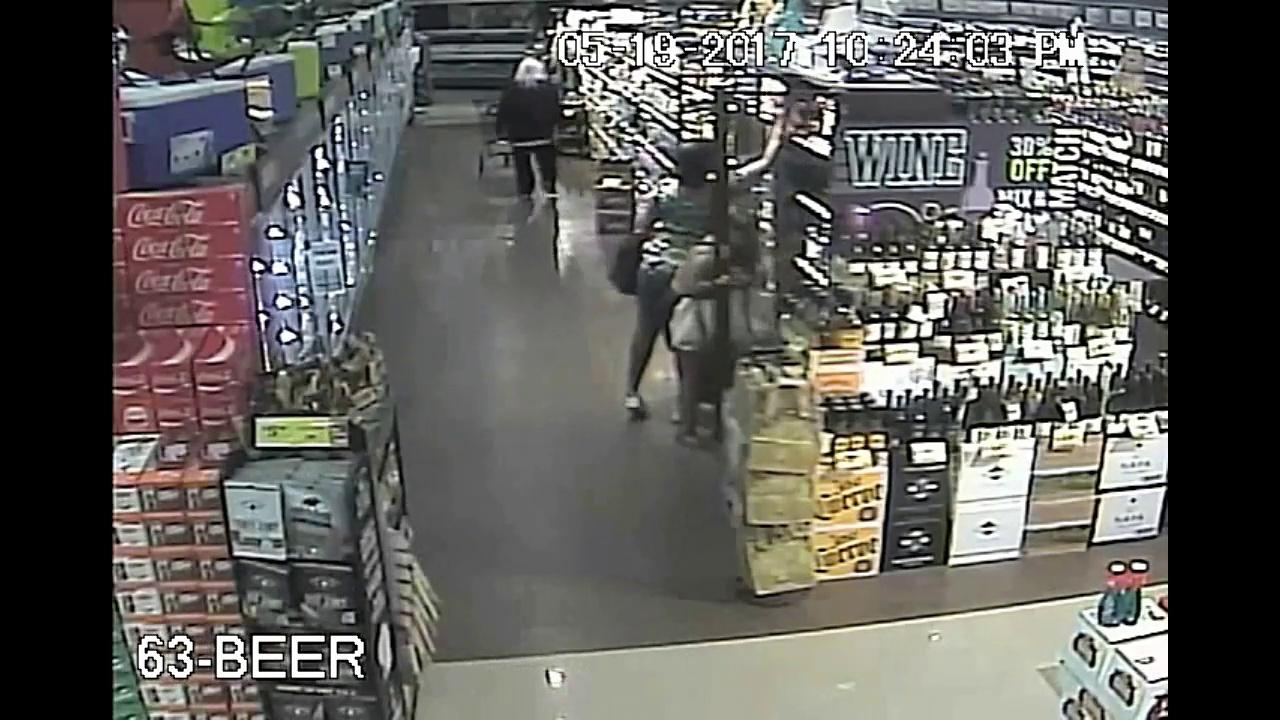Customer-Bagpack: (674, 292, 760, 347), (597, 216, 653, 296)
Regular: (593, 77, 845, 243), (484, 47, 612, 192)
Shoplifting: (667, 227, 841, 432)
